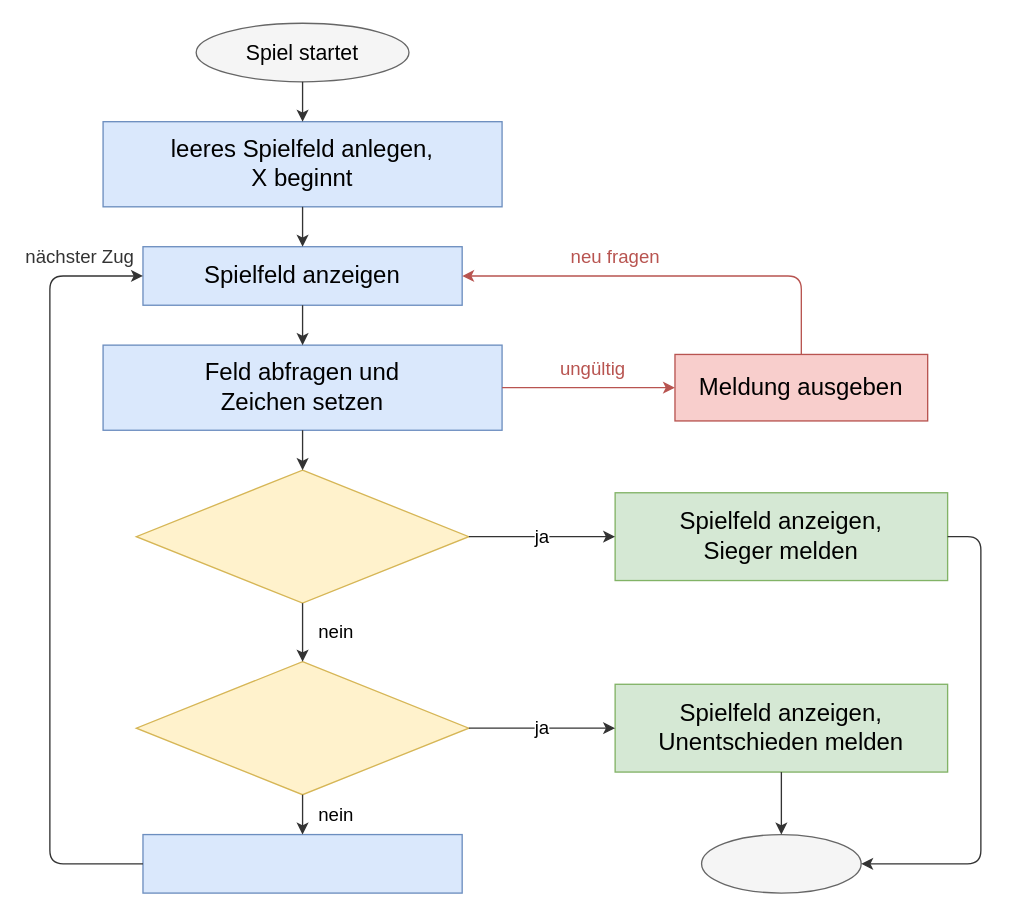
Some shapes in this 1015 by 916 pixel diagram are drawn without their labels. The box of each missing label's shape, as (x1, y1, x2, y2) in pixels:
Ende: (700, 833, 861, 893)
gewonnen?: (135, 469, 469, 603)
Spieler wechseln: (142, 833, 462, 893)
Spielfeld voll?: (135, 660, 469, 795)
